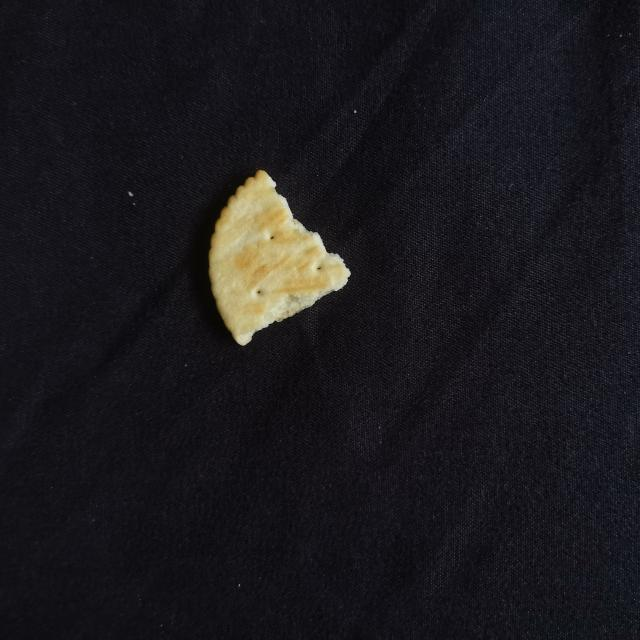Broken: (207, 168, 350, 346)
